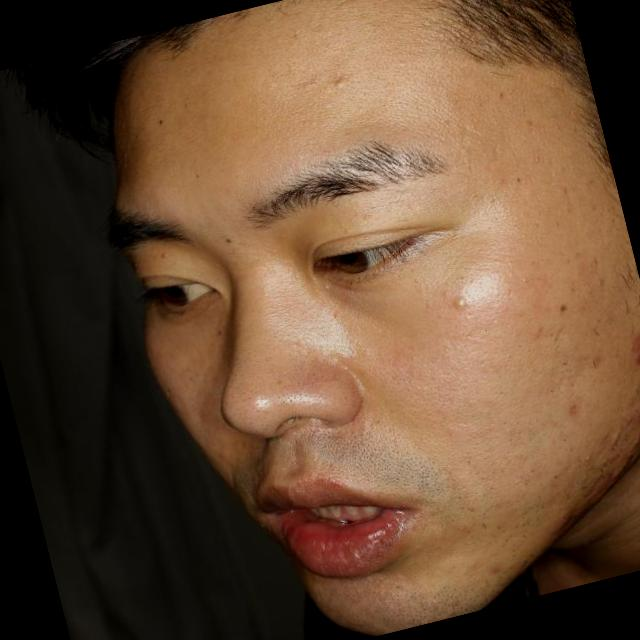acne: (559, 388, 606, 426), (572, 344, 612, 376), (597, 454, 627, 482), (322, 64, 350, 94), (621, 325, 640, 368), (630, 401, 640, 437)
